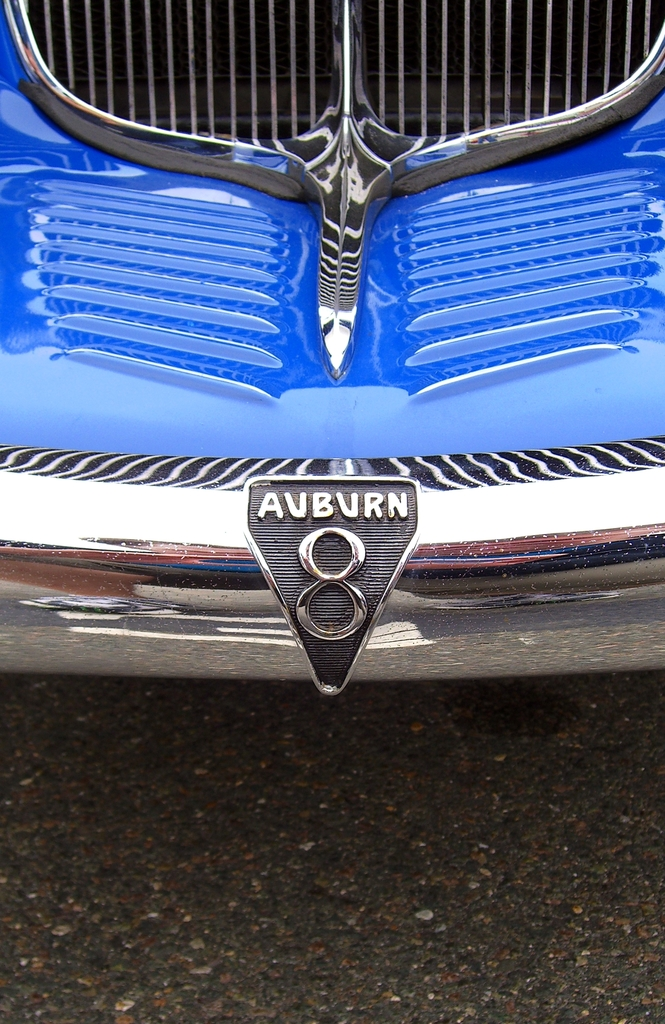Car: (0, 0, 664, 697)
